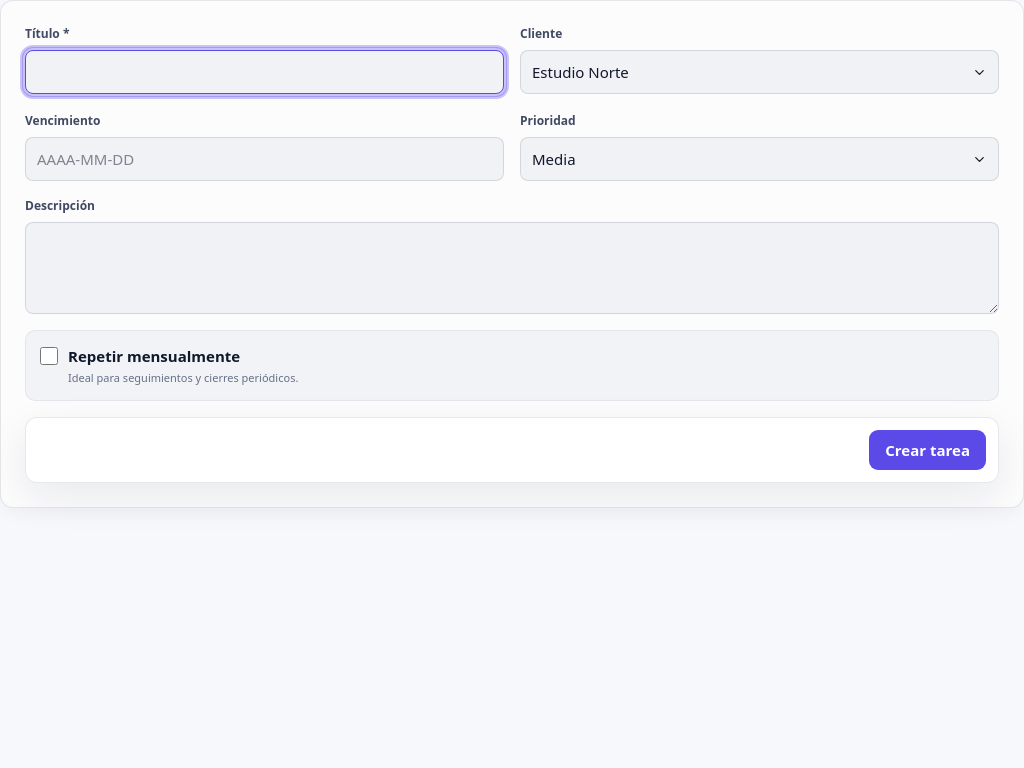
Test: task UI › preselects a client and only enables monthly recurrence with a due date
This screenshot has width=1024, height=768.
Expected: the dropdown named "Cliente" reads "Estudio Norte", [520,50,999,94]
Expected: the text "se creará la siguiente instancia" is not shown
Click the checkbox labelled "Repetir mensualmente": point(49, 356) [40,347,58,365]
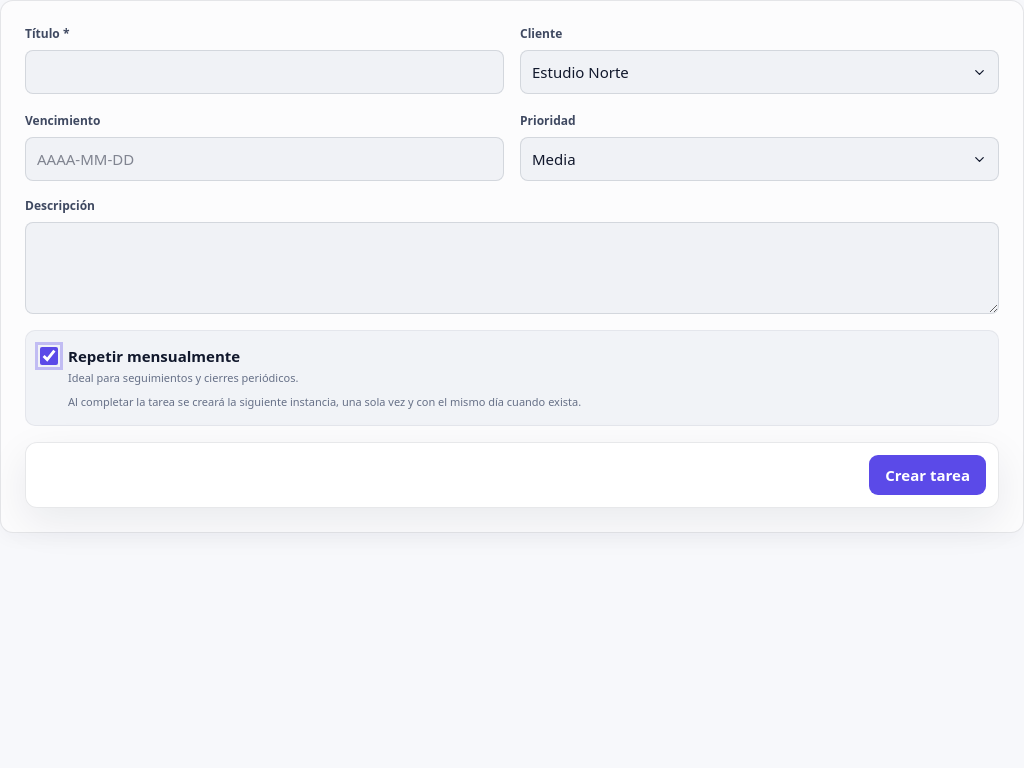
Expected: the element named "recurrence" holds "monthly", [25,330,999,426]
Expected: the text "se creará la siguiente instancia" is shown, [68,394,581,409]
